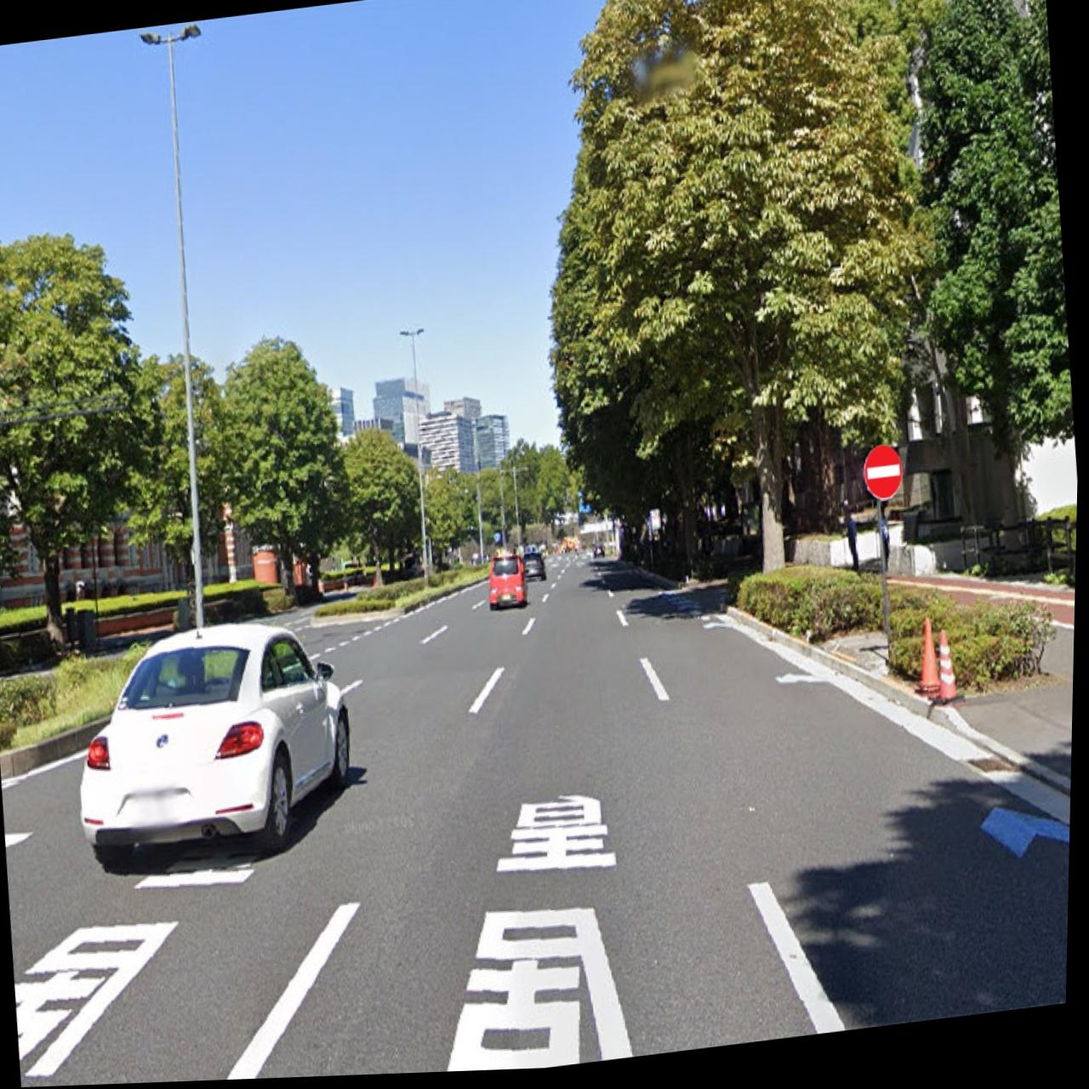barrier: (860, 439, 905, 508)
